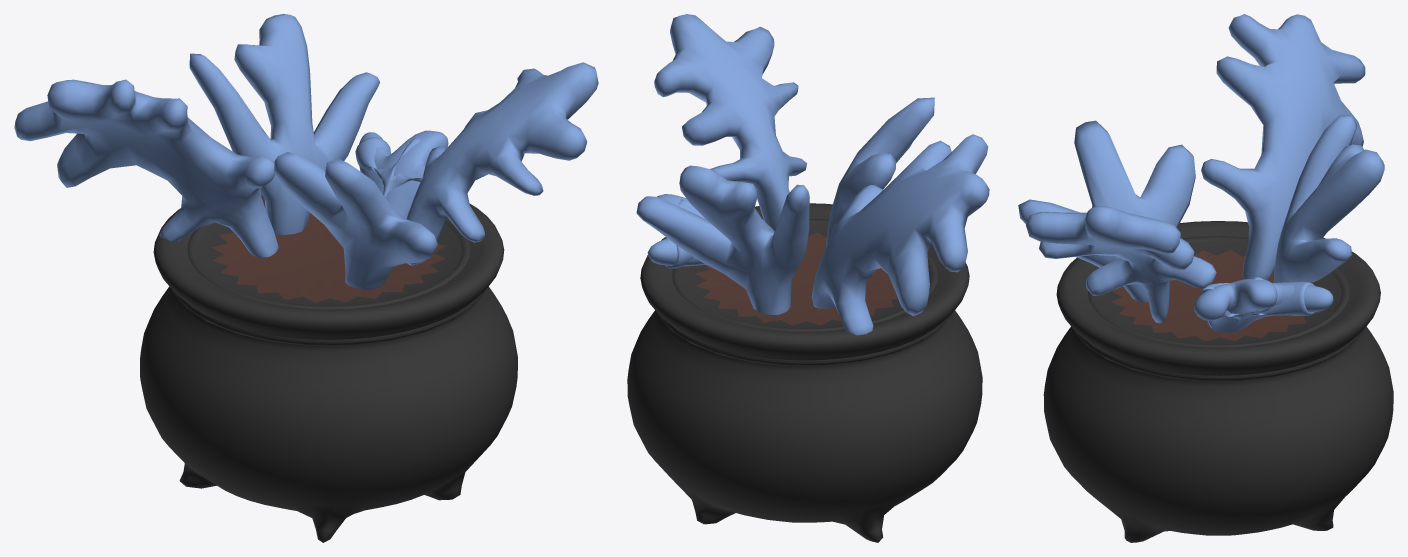
Rendered from Folige_01.fbx.
3 views of the same model, side by side, from view 1: azimuth 30°, elevation 25°; view 2: azimuth 150°, elevation 25°; view 3: azimuth 270°, elevation 25° (orthographic). The views are drawn at different scales.
Visible parts, largest first — view 1: Plane.030; view 2: Plane.030; view 3: Plane.030.
Boxes of the visible parts, x1,y1,x2,y2 form: Plane.030: [14, 14, 598, 542]; Plane.030: [627, 14, 989, 542]; Plane.030: [1018, 14, 1393, 542].
Size of the model in its own units: 93.09 by 87.93 by 73.21.
